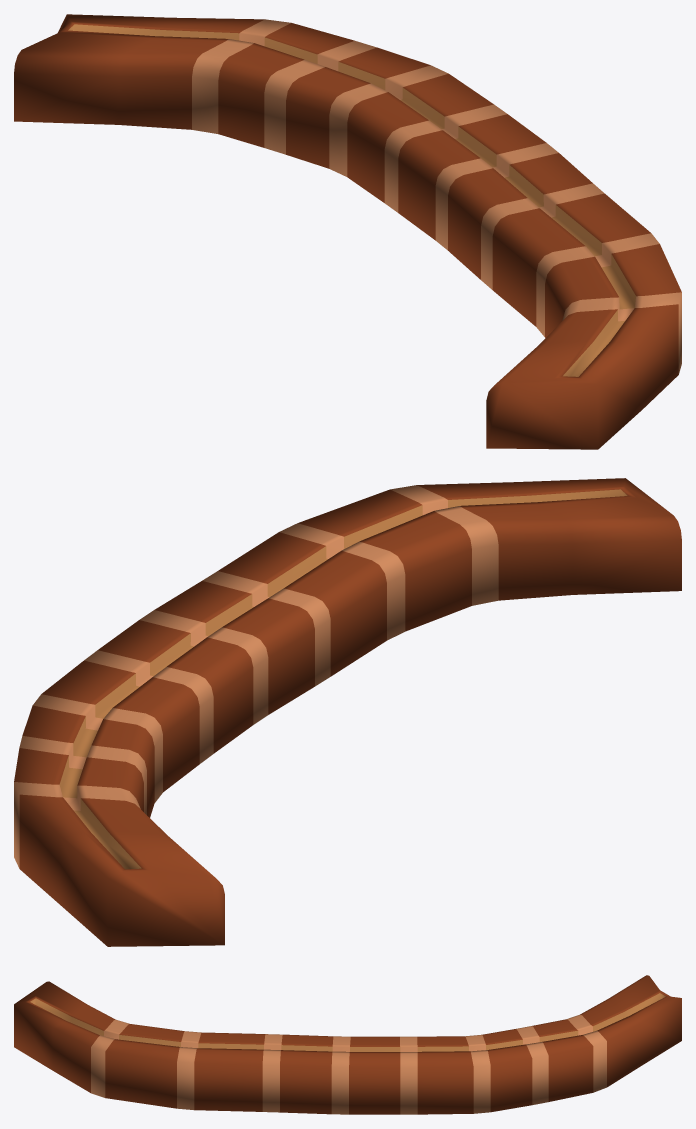
The model's file is sandalye_srt_ust.fbx.
3 views of the same model, one above another, from view 1: azimuth 30°, elevation 25°; view 2: azimuth 150°, elevation 25°; view 3: azimuth 270°, elevation 25° (orthographic). The views are drawn at different scales.
Parts seen in each view (by area): view 1: Cylinder.003; view 2: Cylinder.003; view 3: Cylinder.003.
Boxes of the visible parts, x1=… form: Cylinder.003: x1=14, y1=14, x2=681, y2=449; Cylinder.003: x1=14, y1=478, x2=681, y2=946; Cylinder.003: x1=14, y1=975, x2=681, y2=1114.
Size of the model in its own units: 48.1 by 10.76 by 139.
Materials: 1 (1 with a texture image).
